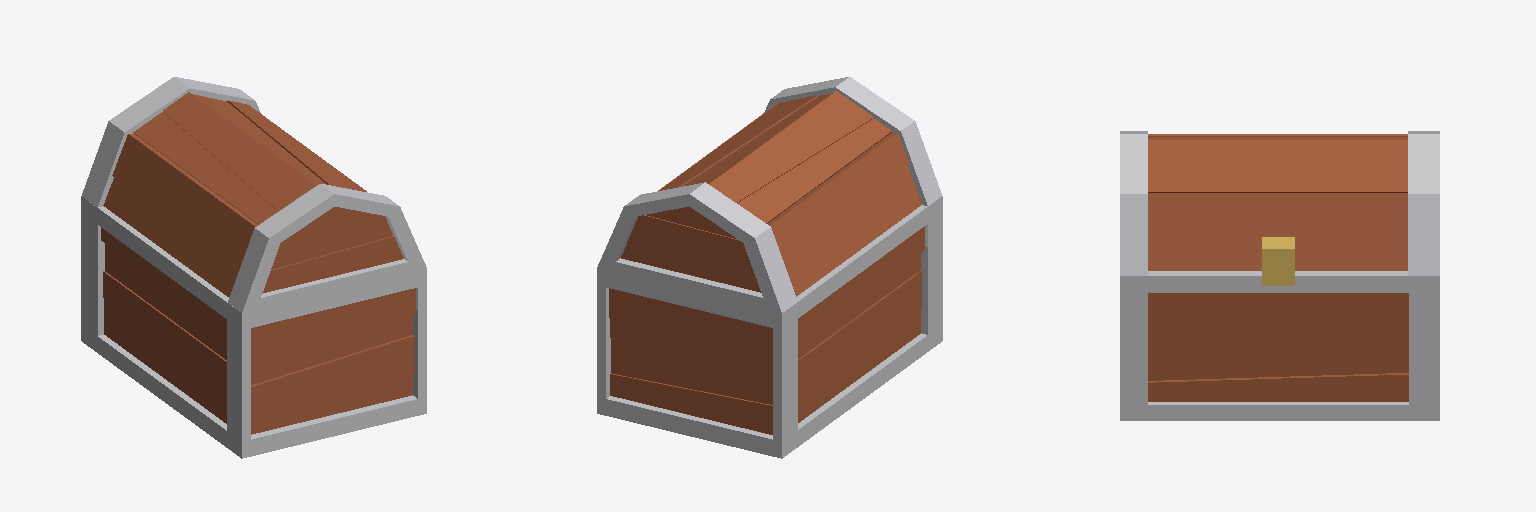
The picture shows the model from 3 angles: view 1: azimuth 30°, elevation 25°; view 2: azimuth 150°, elevation 25°; view 3: azimuth 270°, elevation 25°; orthographic projection.
Visible parts, largest first — view 1: 立方体; view 2: 立方体; view 3: 立方体.
Part boxes in pixels (left/top/right/bottom): 立方体: left=81, top=77, right=426, bottom=458; 立方体: left=597, top=77, right=942, bottom=458; 立方体: left=1120, top=131, right=1439, bottom=420.
Bounding box in the file's own units: 2.04 × 2.5 × 3.
1 materials, 1 textured.